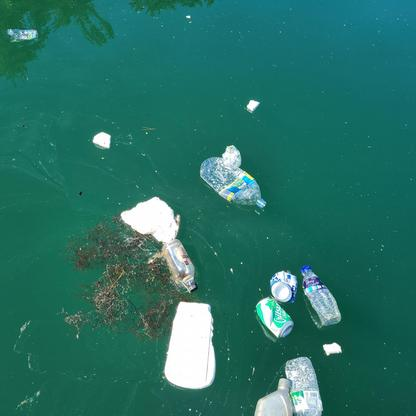can: (256, 297, 295, 338), (271, 267, 298, 300)
foam: (164, 302, 216, 388), (119, 195, 179, 243), (92, 132, 113, 148), (323, 341, 344, 355), (247, 98, 259, 111)
plastic bottle: (199, 154, 268, 208), (300, 266, 344, 326), (286, 357, 325, 416), (164, 242, 200, 293), (253, 378, 291, 416)
